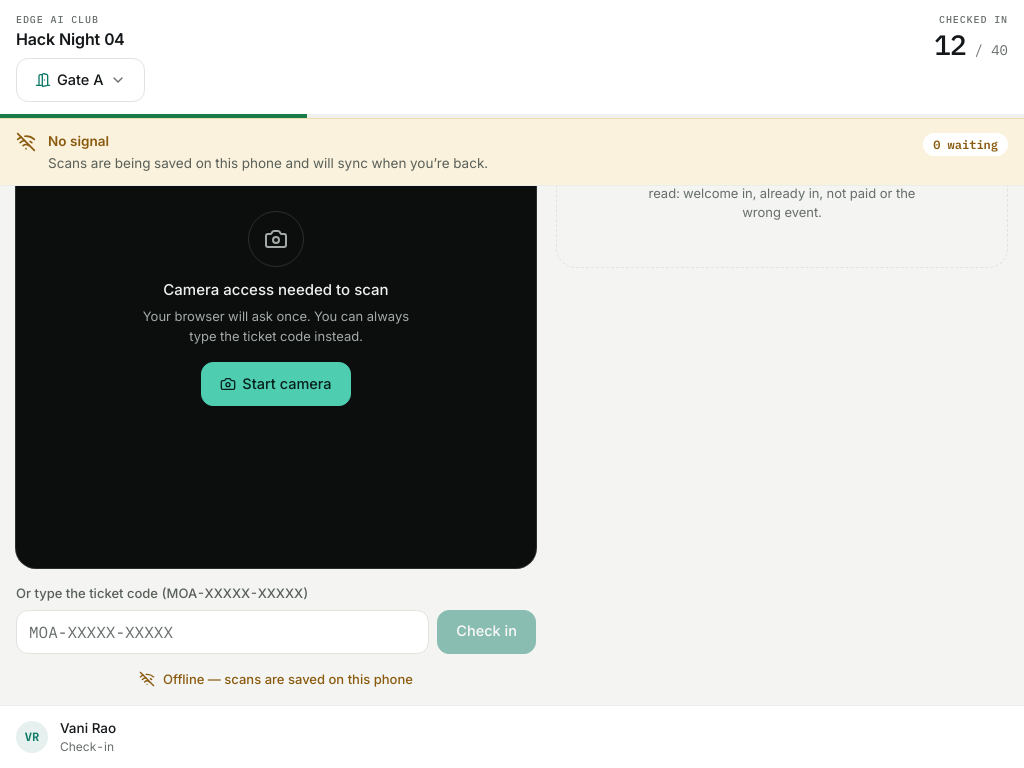
scanning without signal › counts every scan waiting, each with its own reference
(page scrolled)
Type "MOA-1" into the field labelled "Or type the ticket code (MOA-XXXXX-XXXXX)".
click(223, 632); type("MOA-1")  # box [16, 610, 429, 654]
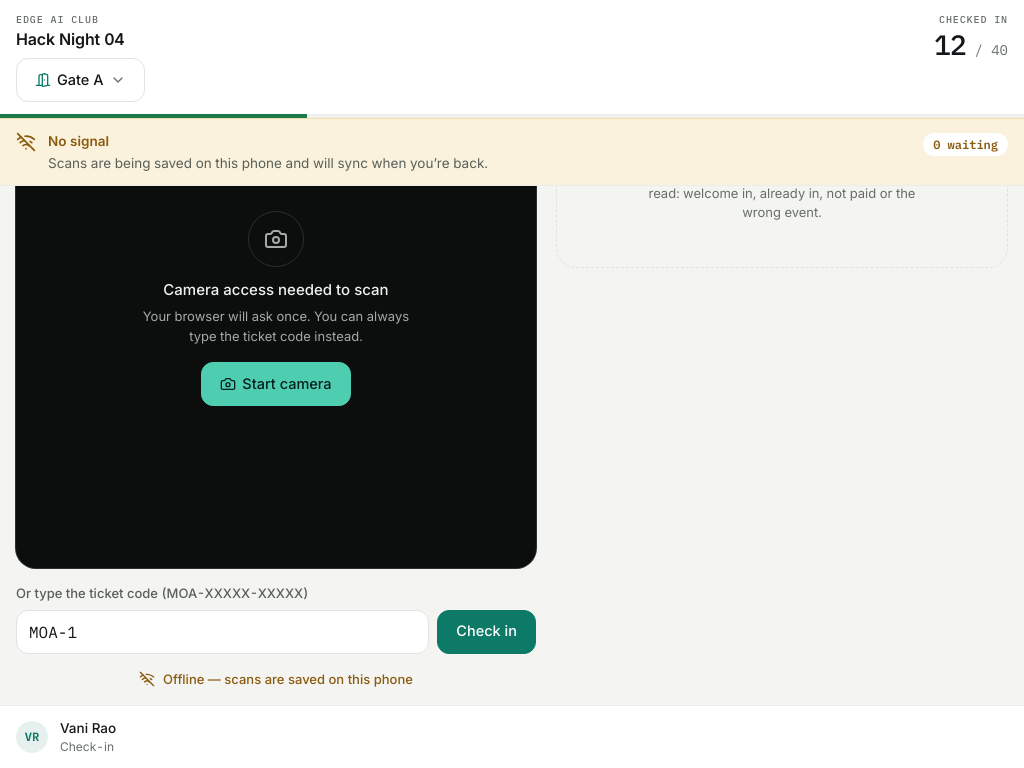
Click the button "Check in".
click(487, 632)  # box [437, 610, 536, 654]
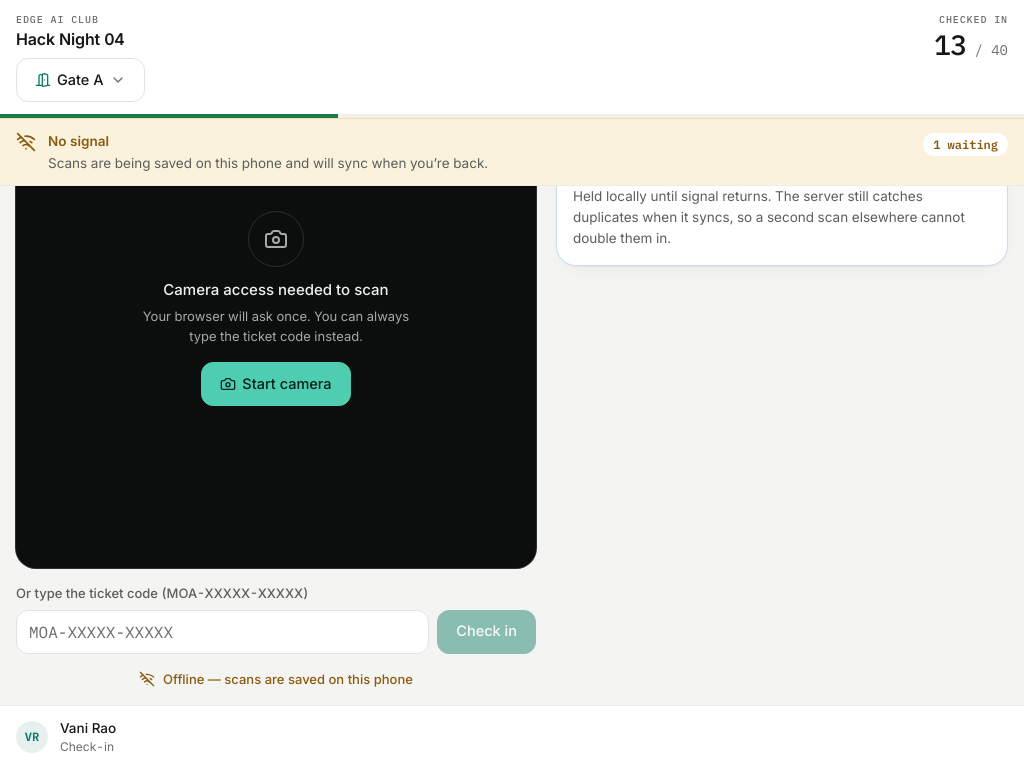
Result: the text "1 waiting" is shown at [923, 133, 1008, 156]
Type "MOA-2" into the field labelled "Or type the ticket code (MOA-XXXXX-XXXXX)".
click(223, 632); type("MOA-2")  # box [16, 610, 429, 654]
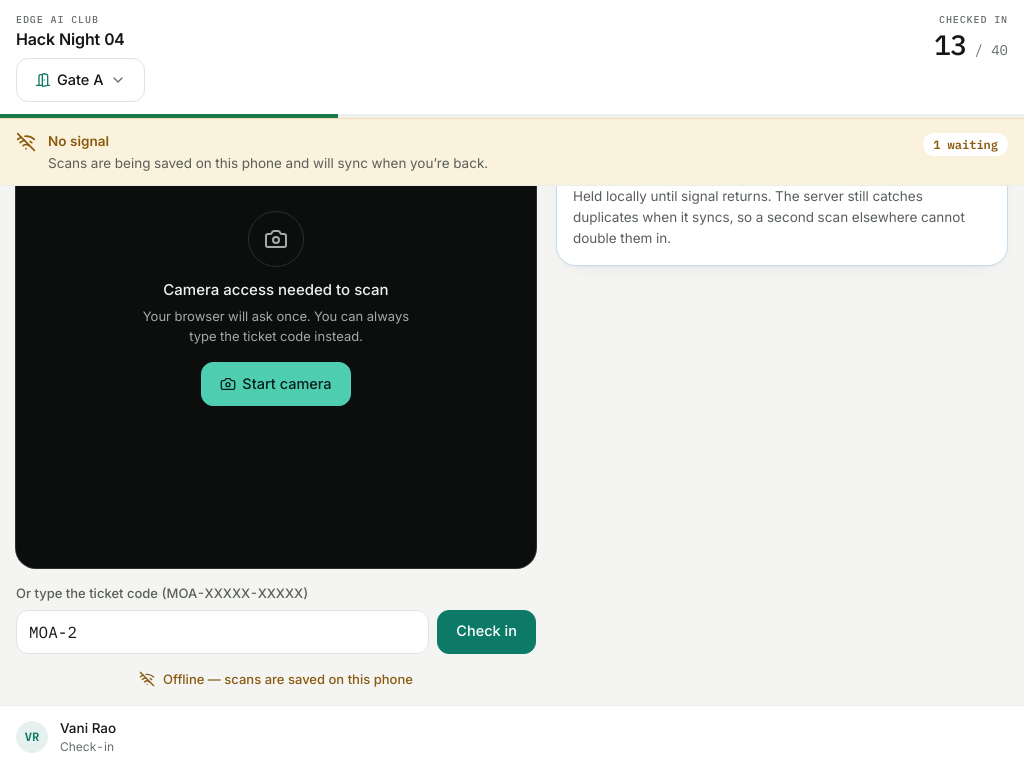
Click the button "Check in".
click(487, 632)  # box [437, 610, 536, 654]
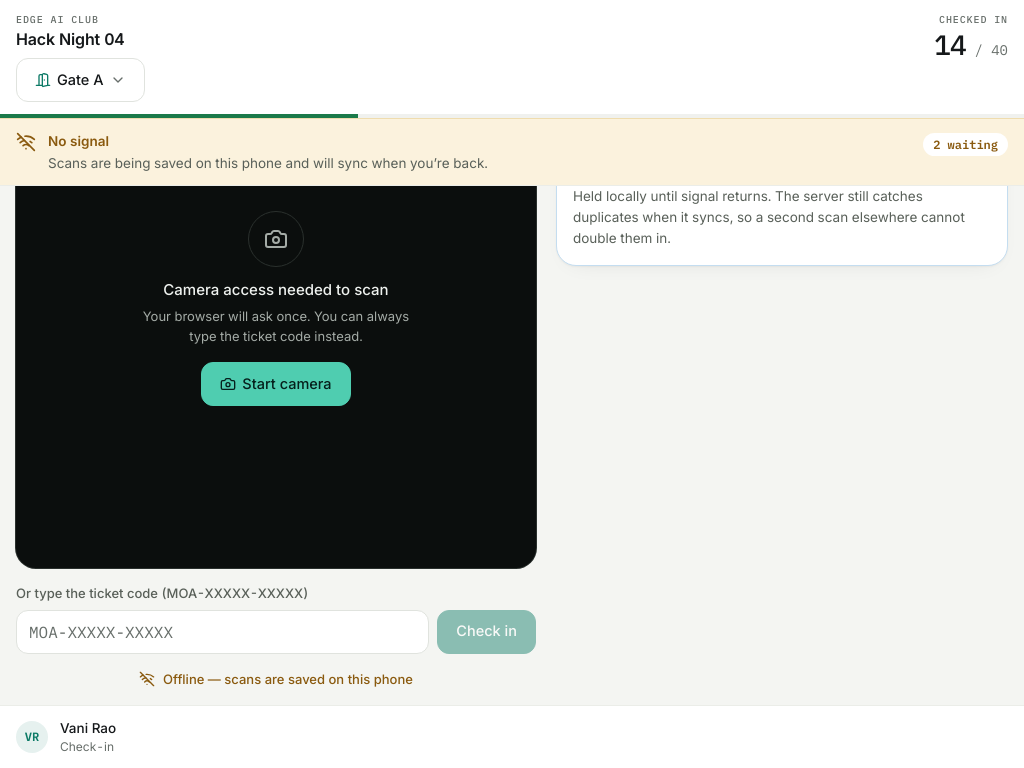
Result: the text "2 waiting" is shown at [923, 133, 1008, 156]
